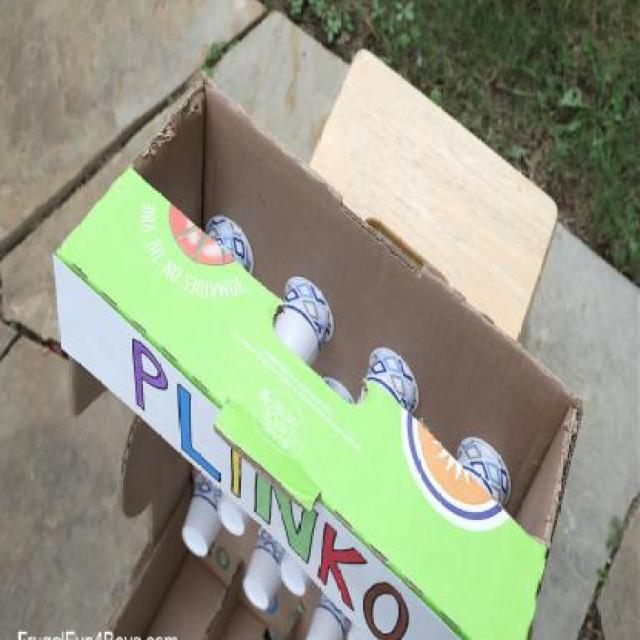box: (49, 6, 586, 640)
